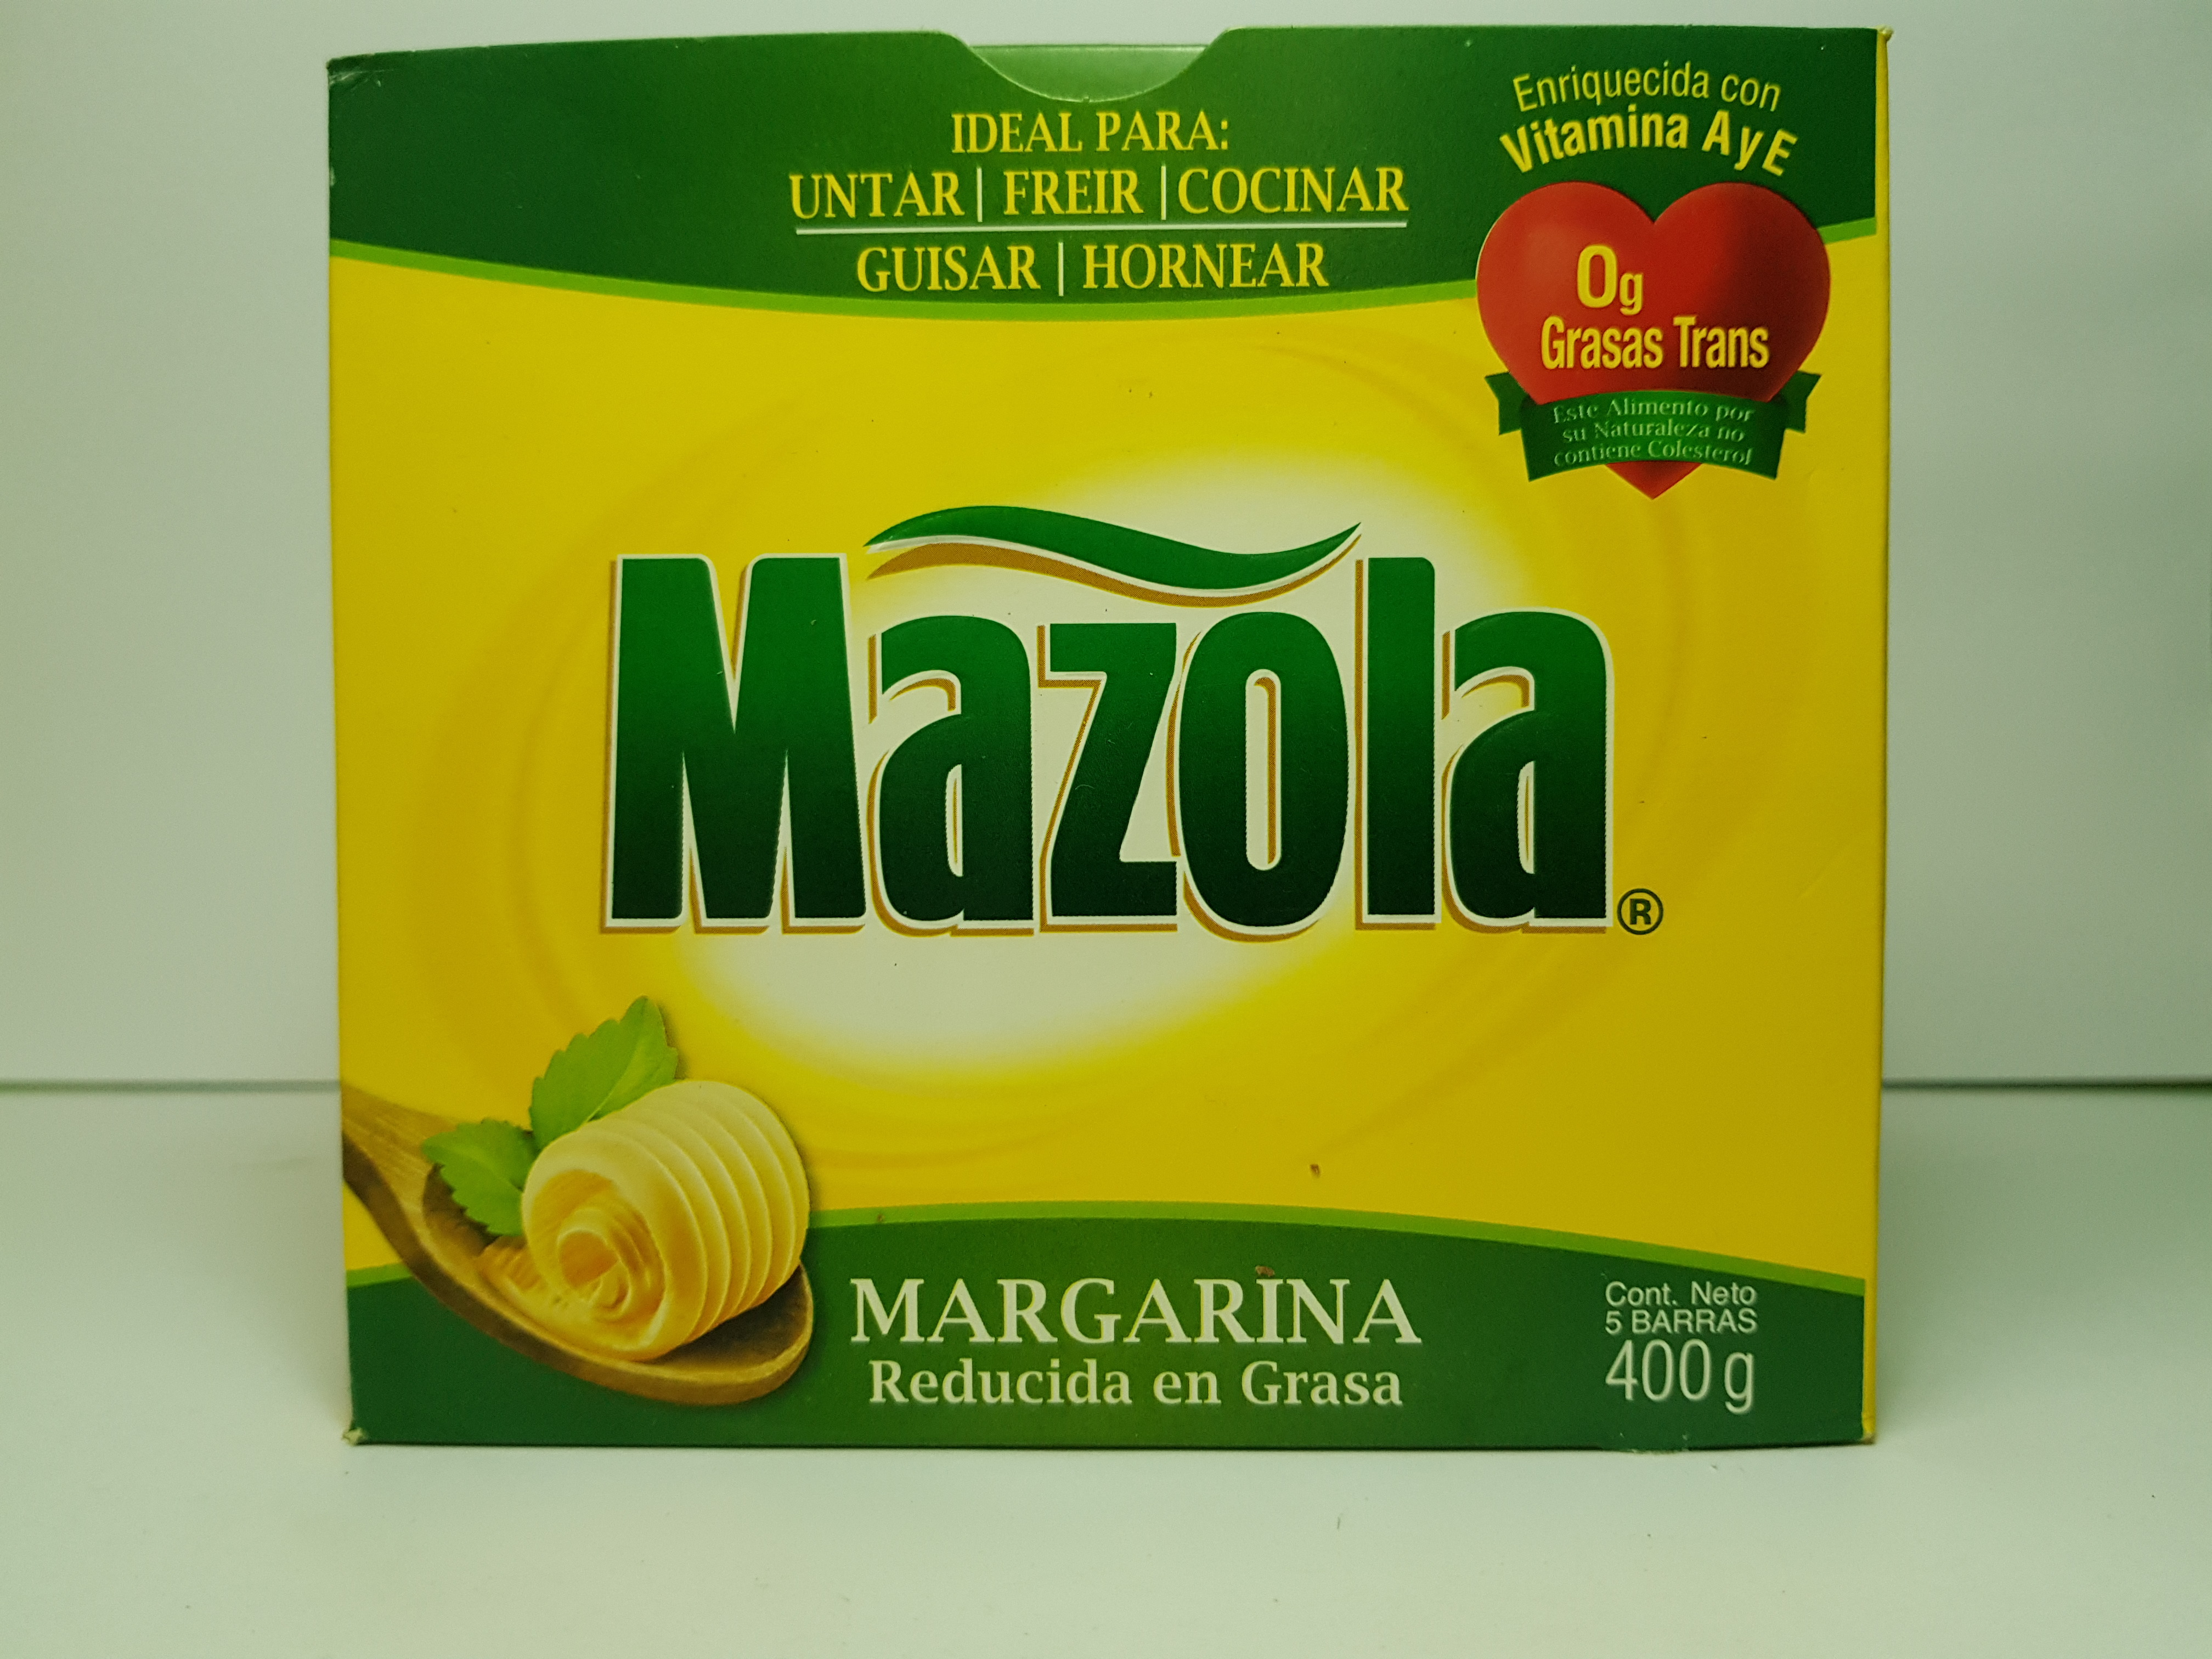mazola: (310, 21, 1909, 1476)
